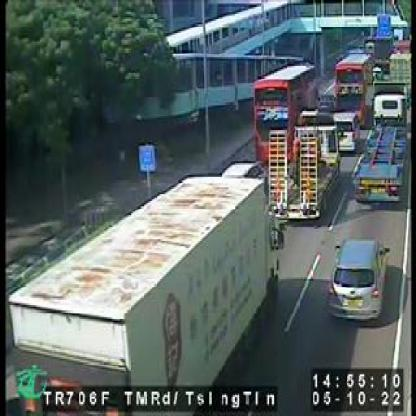Bus: (252, 62, 314, 163), (336, 54, 374, 125)
Car: (326, 238, 386, 317), (329, 111, 356, 152)
Truck: (9, 160, 274, 412), (352, 80, 404, 204), (266, 126, 336, 216)
